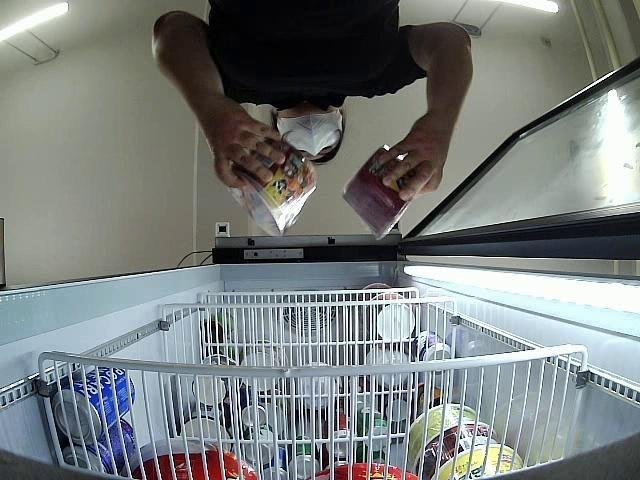05_nuguri_L: (235, 142, 318, 236), (342, 145, 424, 240)
